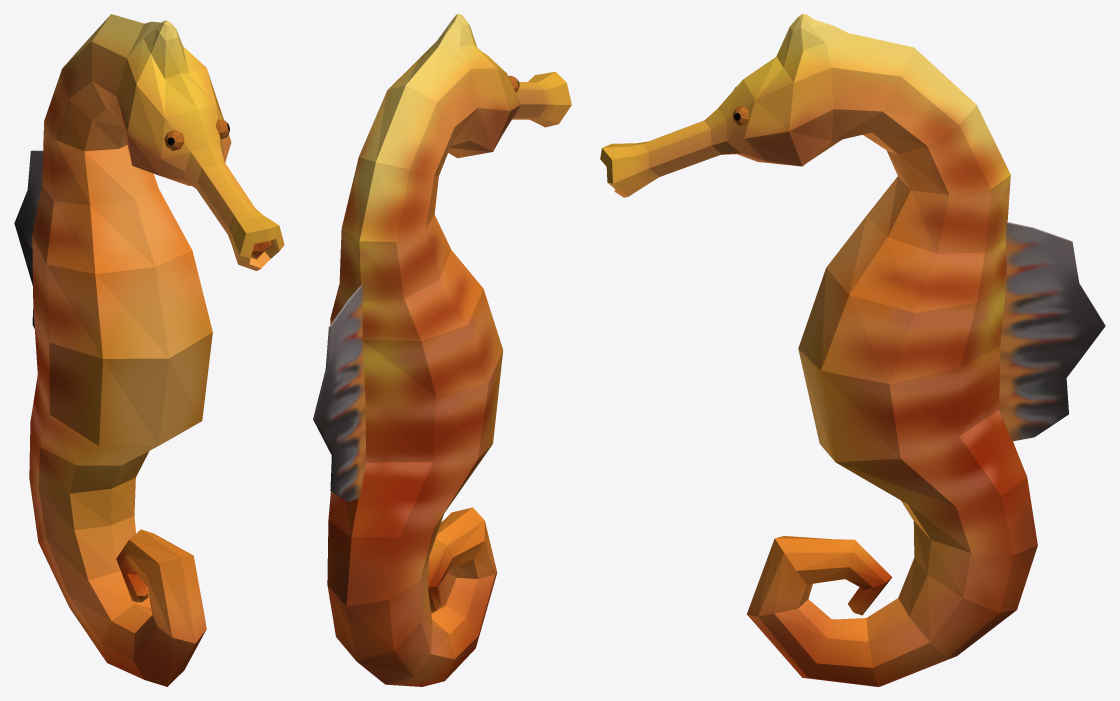
Rendered from seahorse.gltf.
3 views of the same model, side by side, from view 1: azimuth 30°, elevation 25°; view 2: azimuth 150°, elevation 25°; view 3: azimuth 270°, elevation 25° (orthographic). The views are drawn at different scales.
Parts seen in each view (by area): view 1: node-0; view 2: node-0; view 3: node-0.
Part boxes in pixels (<box>): node-0: <box>14,14,284,686</box>; node-0: <box>313,14,571,686</box>; node-0: <box>600,14,1105,686</box>.
Size of the model in its own units: 1.38 by 5.98 by 4.07.
